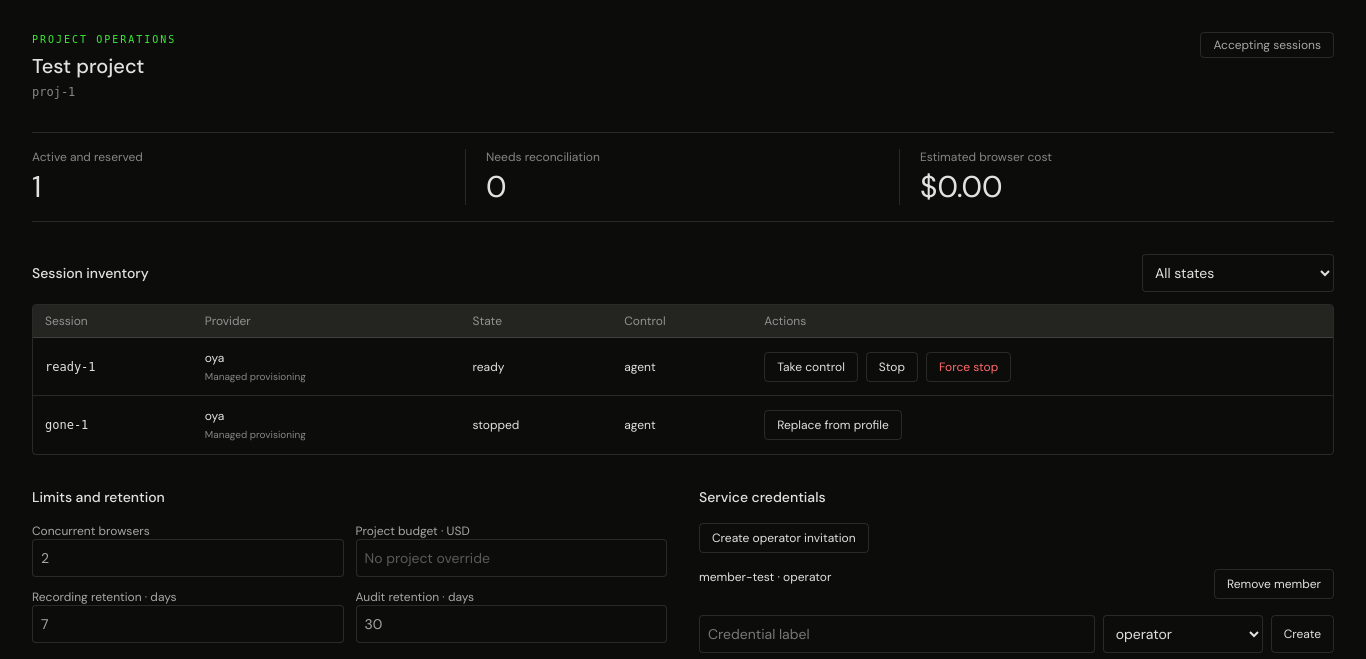
it: DurableControl › shows a once-shown secret until dismissed
Click the button "Create". click: (1302, 634)
box: [1271,615,1334,653]
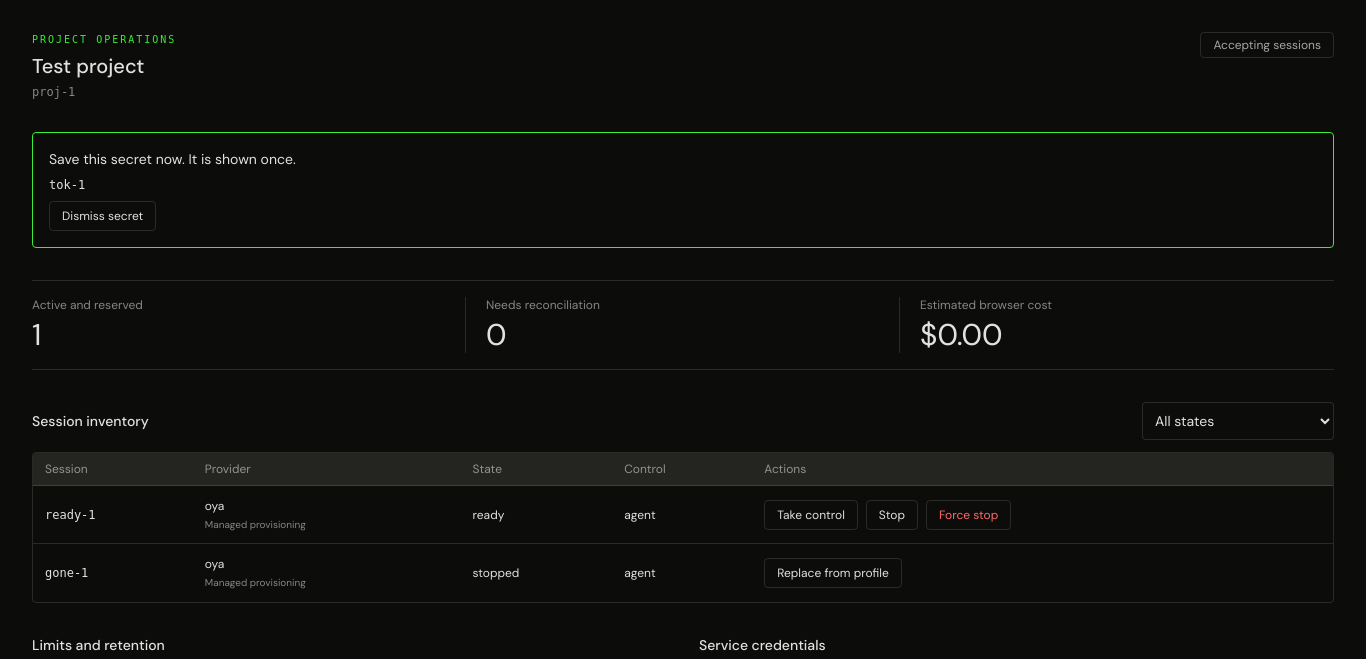
Expected: the text "tok-1" is shown, [49,178,85,192]
Click the button "Dismiss secret". click: (103, 216)
box: [49,201,156,231]
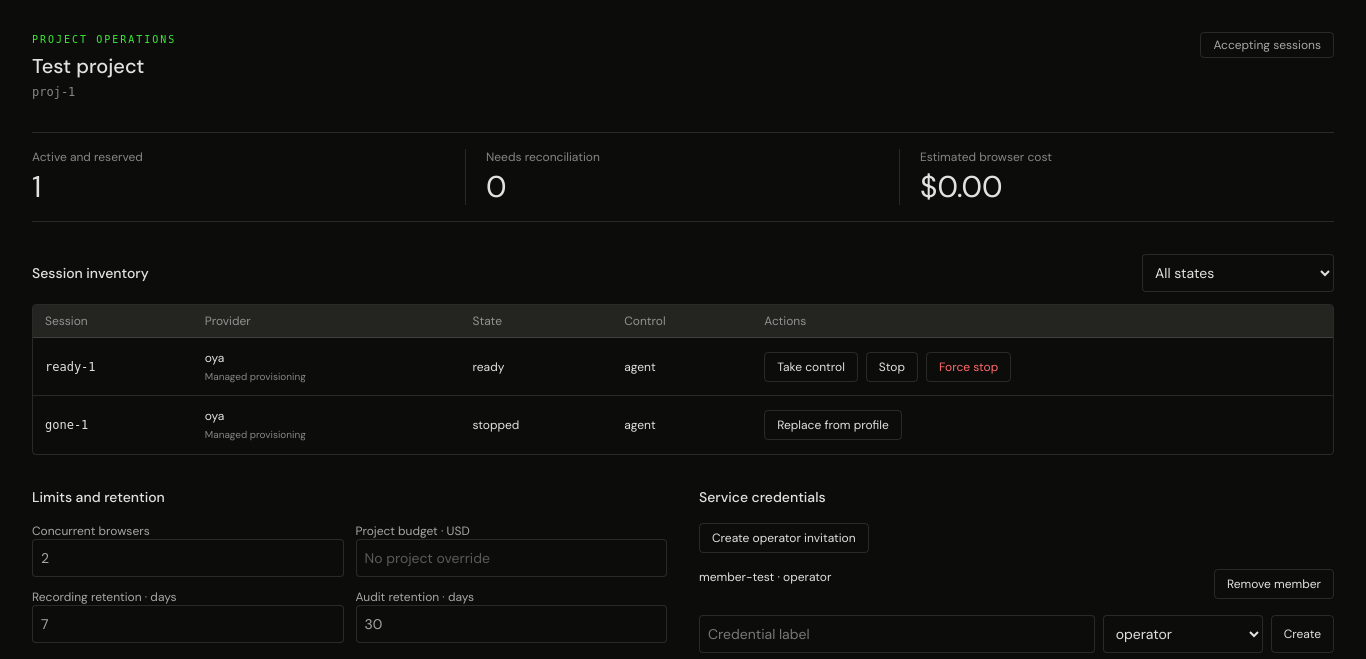
Expected: the text "tok-1" is gone
